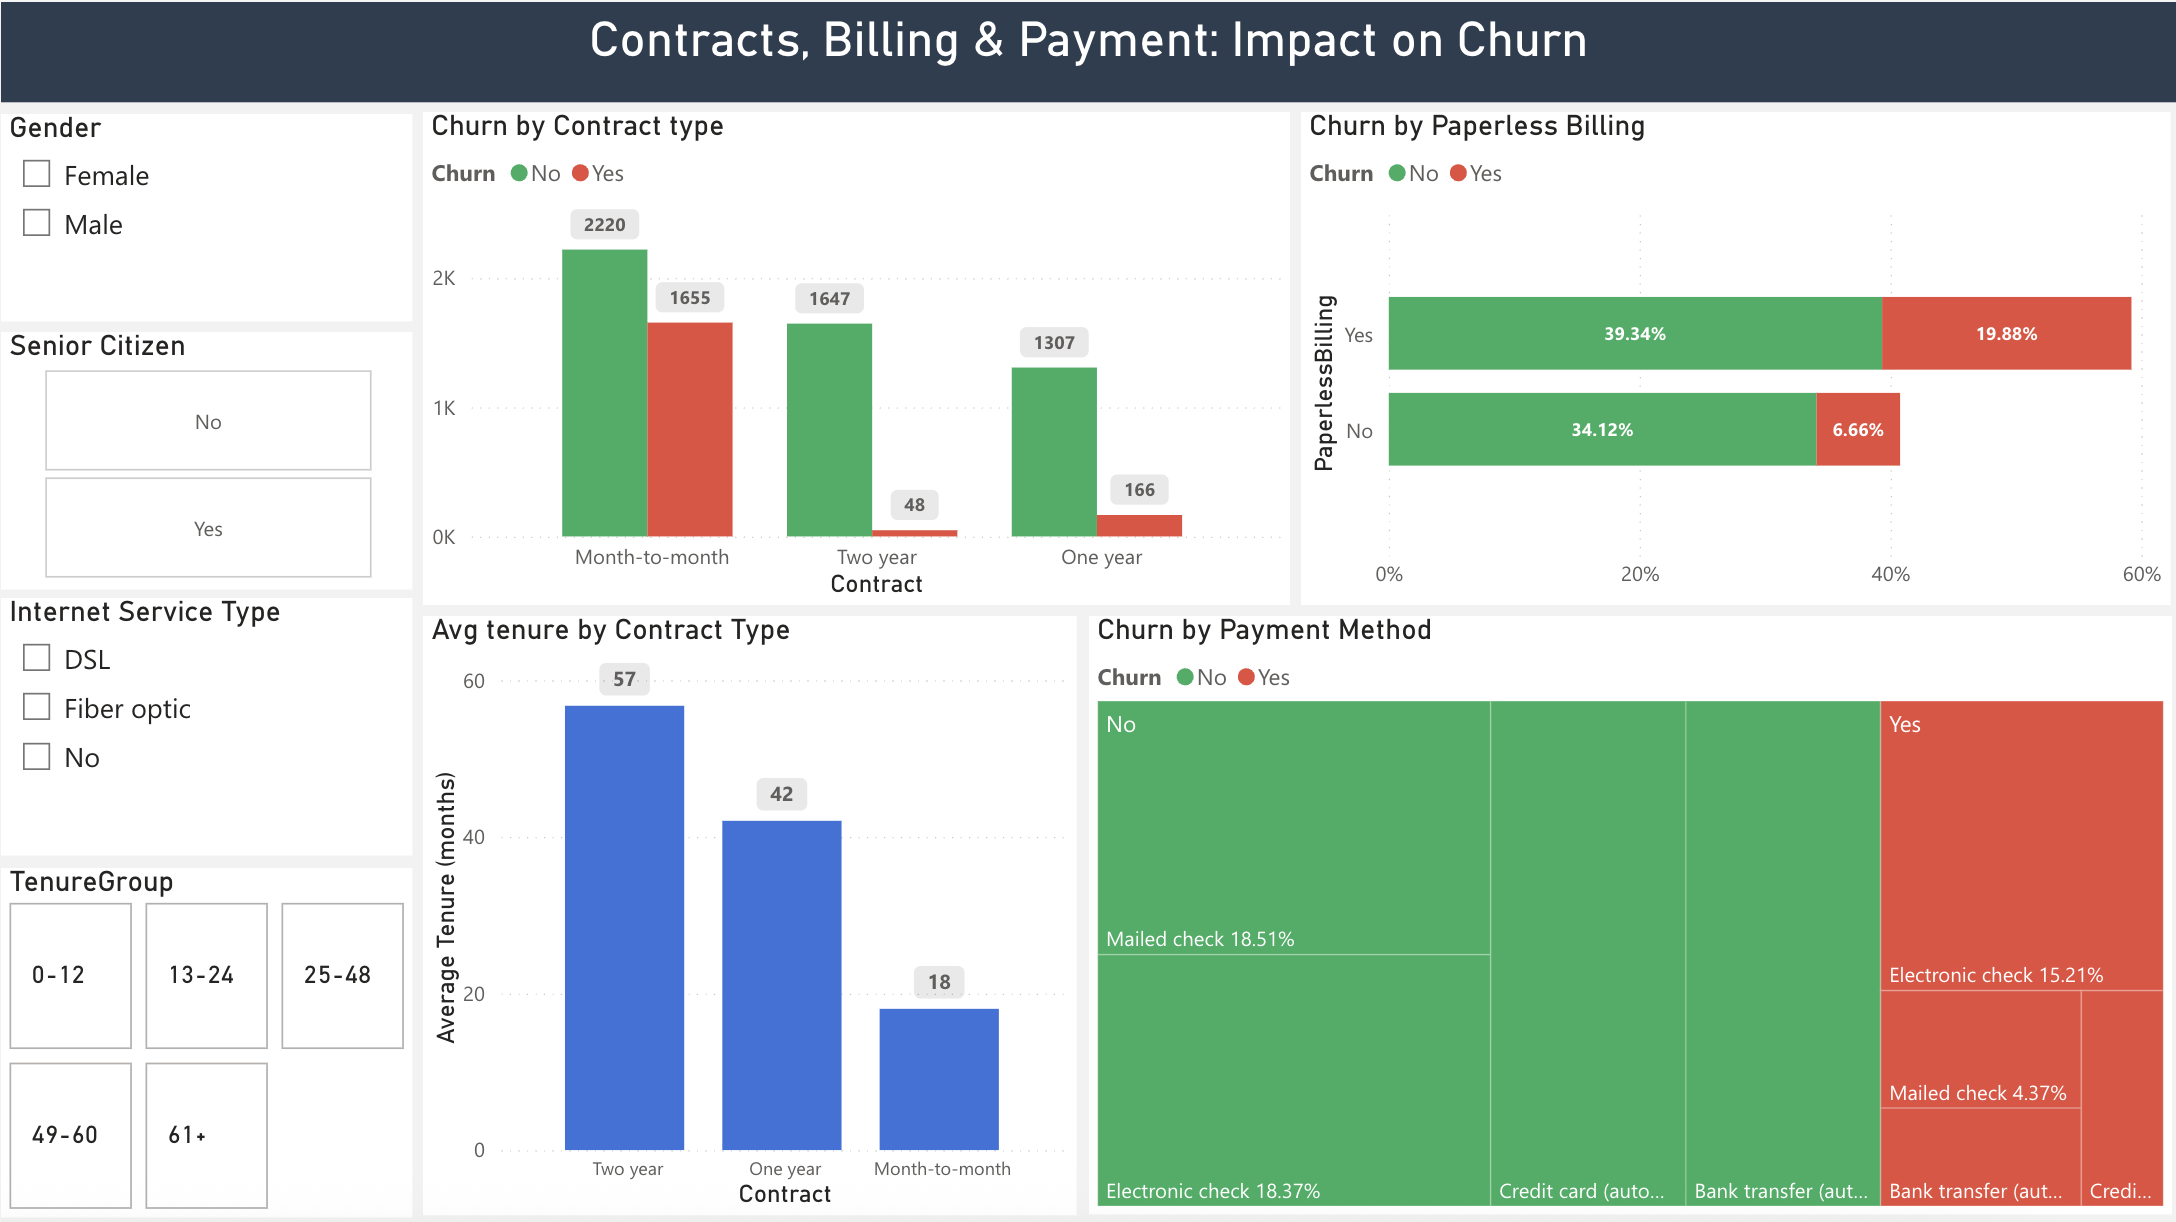

The dashboard page shown, as its layout file describes it:
{"tool":"powerbi","page":{"name":"Contracts & Payment Methods","canvas":[1280,720],"ordinal":2},"visuals":[{"type":"textbox","box":[0,0,1280,59.1],"z":0},{"type":"clusteredColumnChart","title":"Churn by Contract type","fields":{"Series":["CustomerChurnData.Churn"],"Y":["CountNonNull(CustomerChurnData.customerID)"],"Category":["CustomerChurnData.Contract"]},"box":[248.3,65,510,290],"z":1000},{"type":"barChart","title":"Churn by Paperless Billing","fields":{"Y":["CountNonNull(CustomerChurnData.customerID)"],"Series":["CustomerChurnData.Churn"],"Category":["CustomerChurnData.PaperlessBilling"]},"box":[764.4,65,511.2,290],"z":2000},{"type":"treemap","title":"Churn by Payment Method","fields":{"Values":["CountNonNull(CustomerChurnData.customerID)"],"Group":["CustomerChurnData.Churn"],"Details":["CustomerChurnData.PaymentMethod"]},"box":[639.5,360.7,637.1,352.2],"z":3000},{"type":"slicer","title":"Internet Service Type","fields":{"Values":["CustomerChurnData.InternetService"]},"box":[0,351,242,151.5],"z":4000},{"type":"columnChart","title":" Avg tenure by Contract Type","fields":{"Category":["CustomerChurnData.Contract"],"Y":["Calculations.Average Tenure (months)"]},"box":[248.7,361.3,384.7,352.7],"z":5000},{"type":"advancedSlicerVisual","fields":{"Values":["CustomerChurnData.TenureGroup"]},"box":[0,509,242,205.5],"z":6000},{"type":"slicer","title":"Gender","fields":{"Values":["CustomerChurnData.gender"]},"box":[0,65.5,242,122],"z":7000},{"type":"slicer","title":"Senior Citizen","fields":{"Values":["CustomerChurnData.SeniorCitizen"]},"box":[0,194,242,151.3],"z":8000}]}

Visuals, with their boxes in screenshot pixels (x1, y1, x2, y2), scaled from the page's 1280x720 canvas onto the 2176x1222 screenshot:
textbox: [0,0,2175,100]
"Churn by Contract type" clusteredColumnChart: [422,110,1289,603]
"Churn by Paperless Billing" barChart: [1299,110,2169,603]
"Churn by Payment Method" treemap: [1087,612,2170,1210]
"Internet Service Type" slicer: [0,596,411,853]
" Avg tenure by Contract Type" columnChart: [423,613,1077,1212]
advancedSlicerVisual - CustomerChurnData.TenureGroup: [0,864,411,1213]
"Gender" slicer: [0,111,411,318]
"Senior Citizen" slicer: [0,329,411,586]
